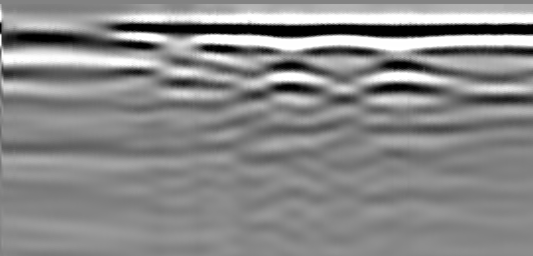pipe: (2, 22, 153, 48)
steel: (299, 42, 389, 58)
